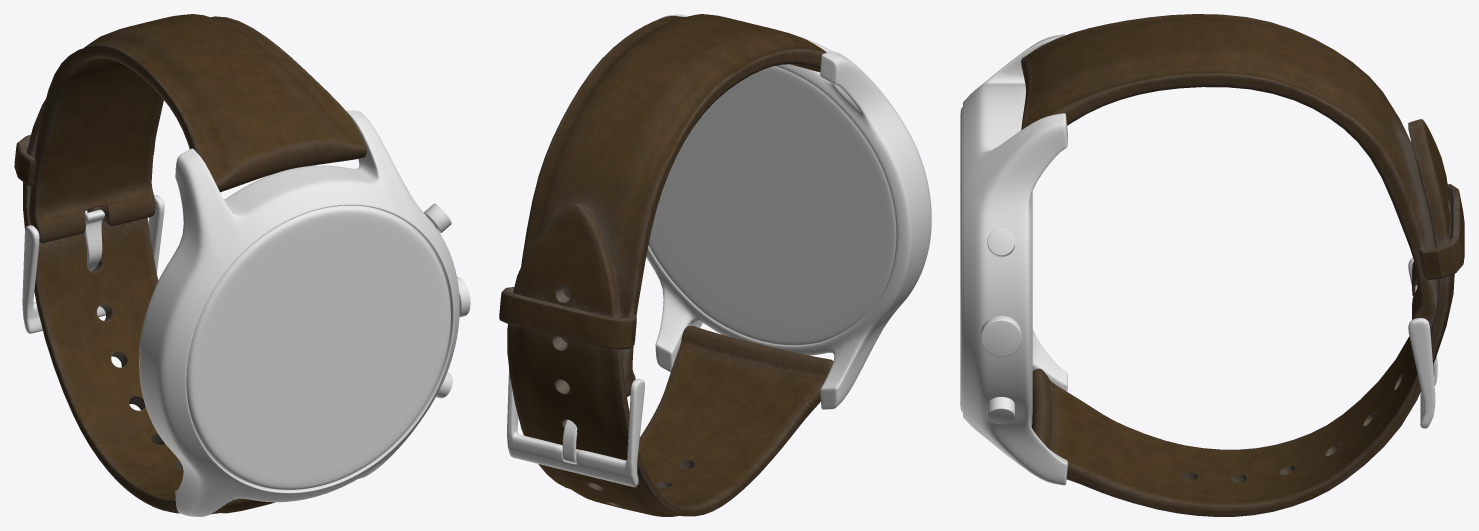
File: HandWatch.fbx
3 views of the same model, side by side, from view 1: azimuth 30°, elevation 25°; view 2: azimuth 150°, elevation 25°; view 3: azimuth 270°, elevation 25° (orthographic). The views are drawn at different scales.
Visible parts, largest first — view 1: Cylinder.004, Cube.005, Cylinder, Cube.015, Cube.013, Cube.014; view 2: Cylinder, Cube.015, Cube.005, Cube.013, Cube.014; view 3: Cube.015, Cube.005, Cylinder, Cube.013, Cylinder.001, Cylinder.004, Cylinder.003, Cylinder.002.
Part boxes in pixels (<box>): Cylinder.004: <box>186,205,450,489</box>; Cube.005: <box>28,14,366,243</box>; Cylinder: <box>139,110,459,516</box>; Cube.015: <box>14,99,275,514</box>; Cube.013: <box>22,195,164,333</box>; Cube.014: <box>84,209,104,270</box>; Cylinder: <box>646,14,931,409</box>; Cube.015: <box>499,203,833,516</box>; Cube.005: <box>521,14,826,396</box>; Cube.013: <box>507,369,644,487</box>; Cube.014: <box>562,419,577,462</box>; Cube.015: <box>1031,119,1464,516</box>; Cube.005: <box>1021,14,1437,329</box>; Cylinder: <box>963,34,1067,485</box>; Cube.013: <box>1408,258,1435,428</box>; Cylinder.001: <box>980,315,1021,356</box>; Cylinder.004: <box>960,107,962,412</box>; Cylinder.003: <box>987,397,1014,424</box>; Cylinder.002: <box>987,228,1014,257</box>.
Size of the model in its own units: 279 by 393 by 389.
